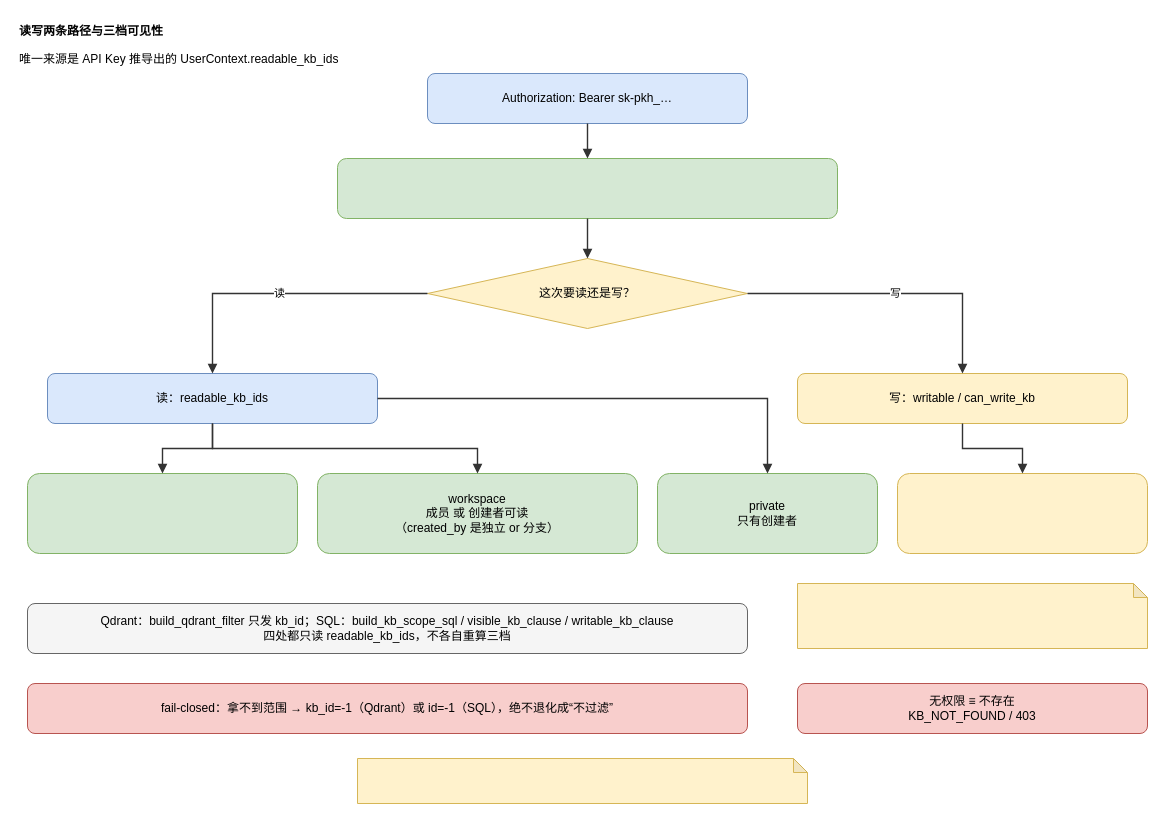
Image size: 1174x821. Some labels were removed from this diagram. Each missing label, with the centre of its shape:
"global 所有用户可读" belongs at point (162, 513).
"global：所有人 workspace：只有成员 private：只有创建者" belongs at point (1022, 513).
"load_user_context user / key / workspace_ids / readable_kb_ids / superadmin" belongs at point (587, 188).
"读写差一格：workspace 库的创建者 已退出工作区 → 读得到、改不了。" belongs at point (972, 615).
"超管越过三档：所有未删库进 readable_kb_ids；仍是服务端推导。" belongs at point (582, 781).
